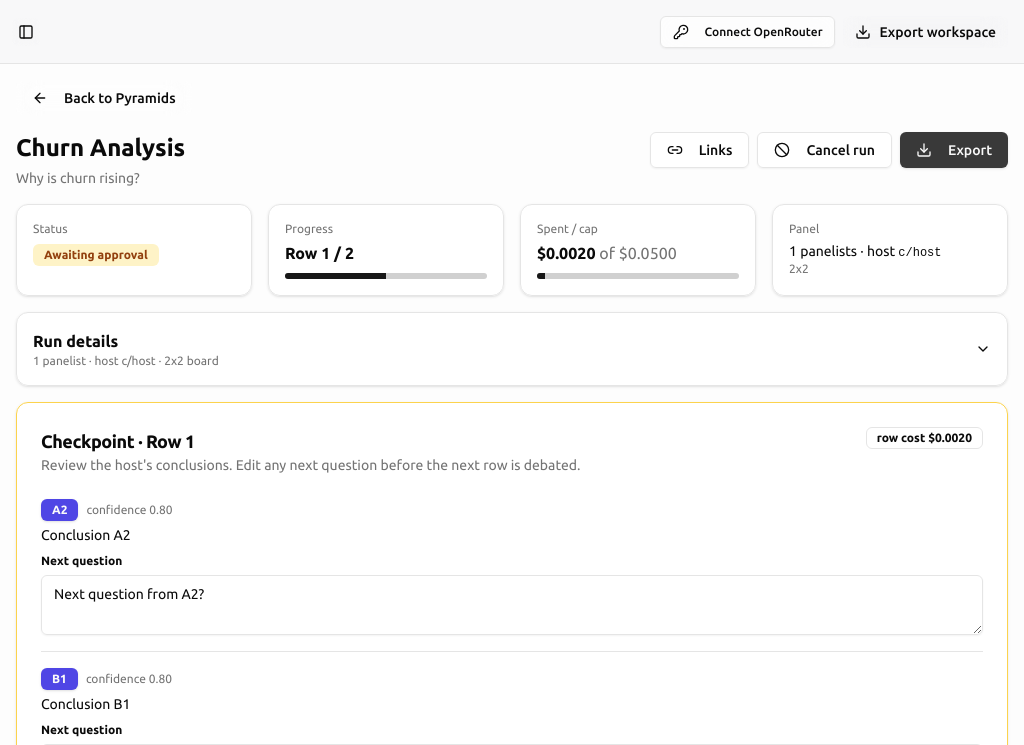
workspace apps render › run details open to the models and cost of the run
Click the button "Run details 1 panelist · host c/host · 2x2 board": (76, 341) [17, 313, 1007, 385]
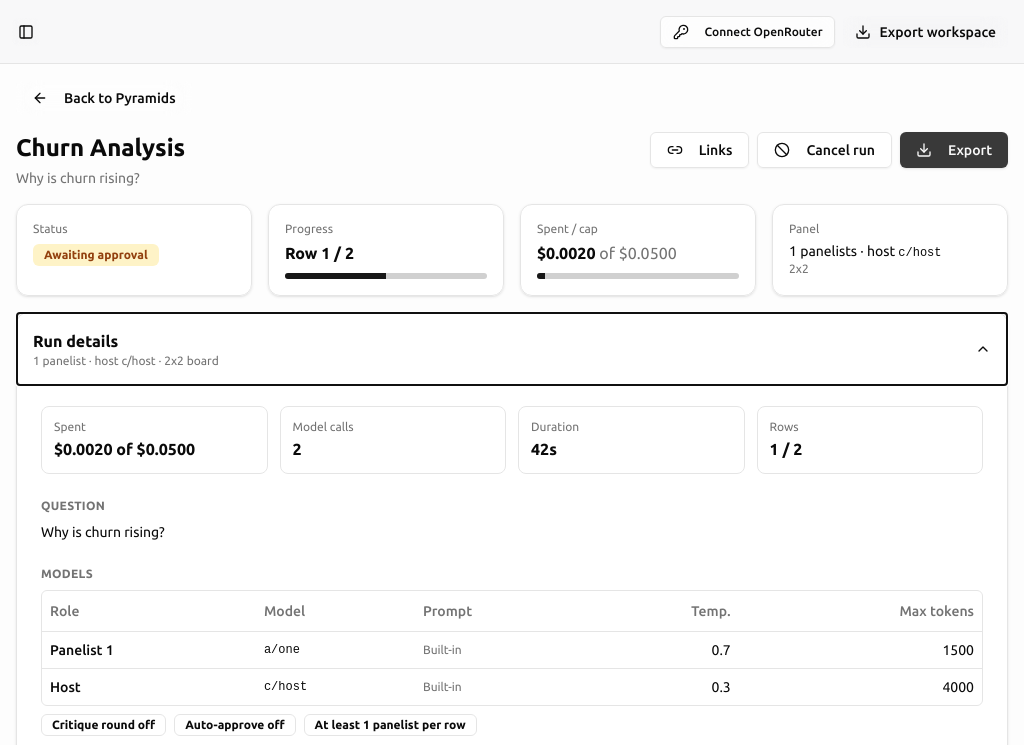
Expected: the text "c/host" is shown, [898, 246, 942, 260]
Expected: the text "42s" is shown, [531, 440, 557, 458]
